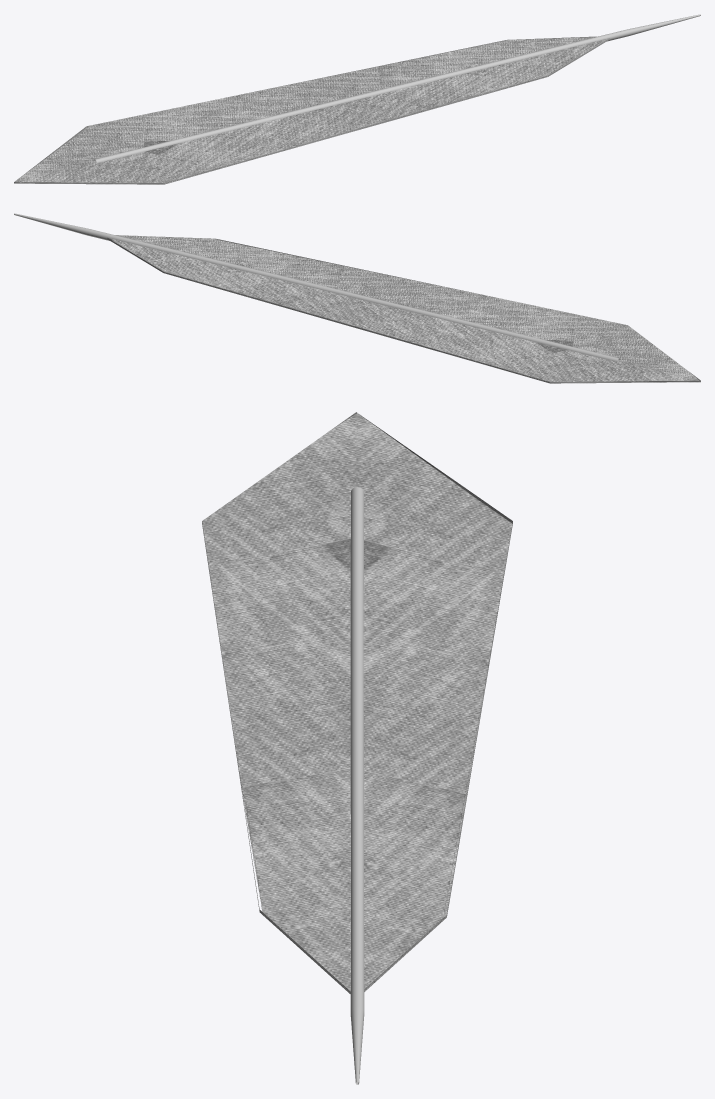
Rendered from FeatherPen.fbx.
3 renders of one model, top to bottom at view 1: azimuth 30°, elevation 25°; view 2: azimuth 150°, elevation 25°; view 3: azimuth 270°, elevation 25°, orthographic. The views are drawn at different scales.
Visible parts, largest first — view 1: Feather, Spine; view 2: Feather, Spine; view 3: Feather, Spine.
Boxes of the visible parts, x1,y1,x2,y2 form: Feather: [14, 36, 609, 184]; Spine: [94, 14, 700, 162]; Feather: [107, 235, 700, 383]; Spine: [14, 213, 620, 361]; Feather: [202, 412, 512, 993]; Spine: [350, 487, 364, 1084].
Bounding box in the file's own units: 227 × 2 × 44.52.
